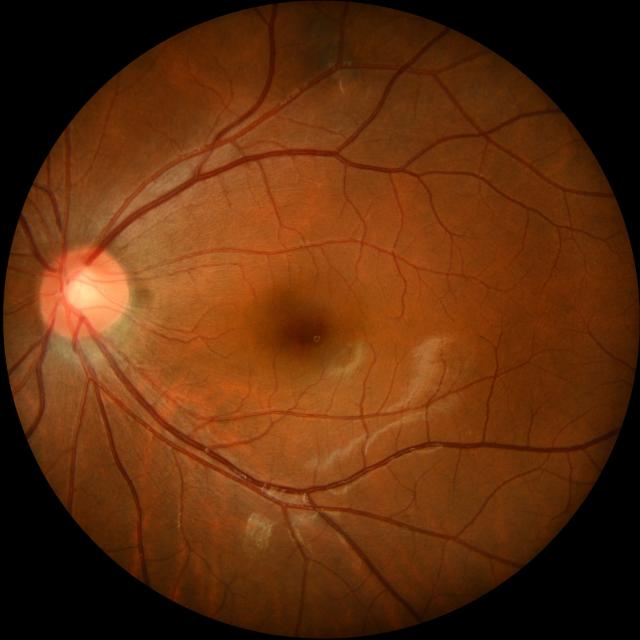OC: (62, 267, 101, 312)
OD: (38, 247, 126, 339)
